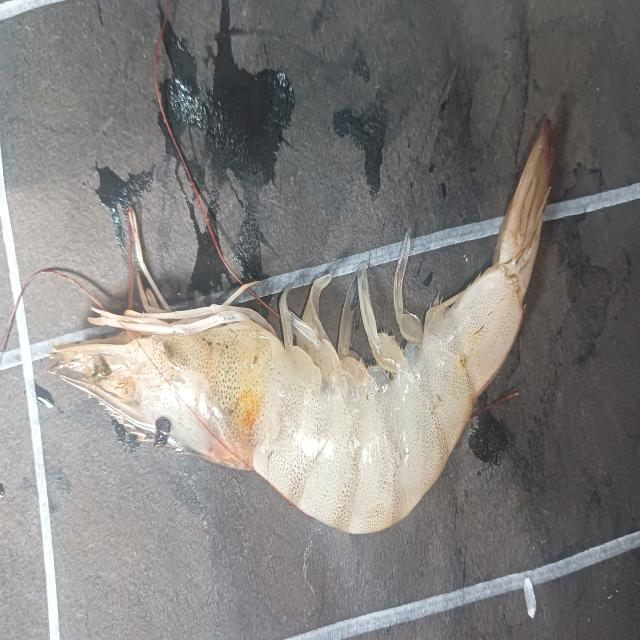shrimp: (54, 120, 552, 533)
